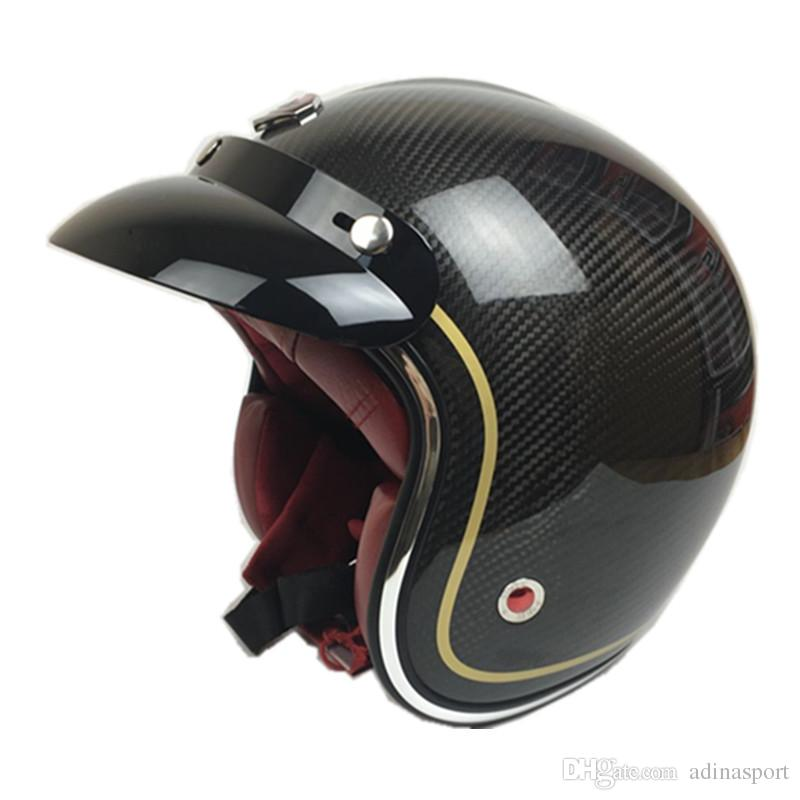with_helmet: (48, 74, 757, 735)
